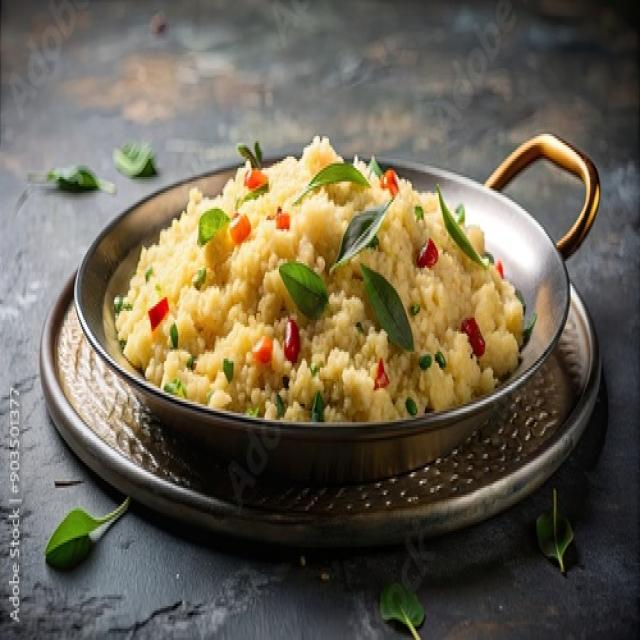UPMA: (120, 150, 521, 425)
